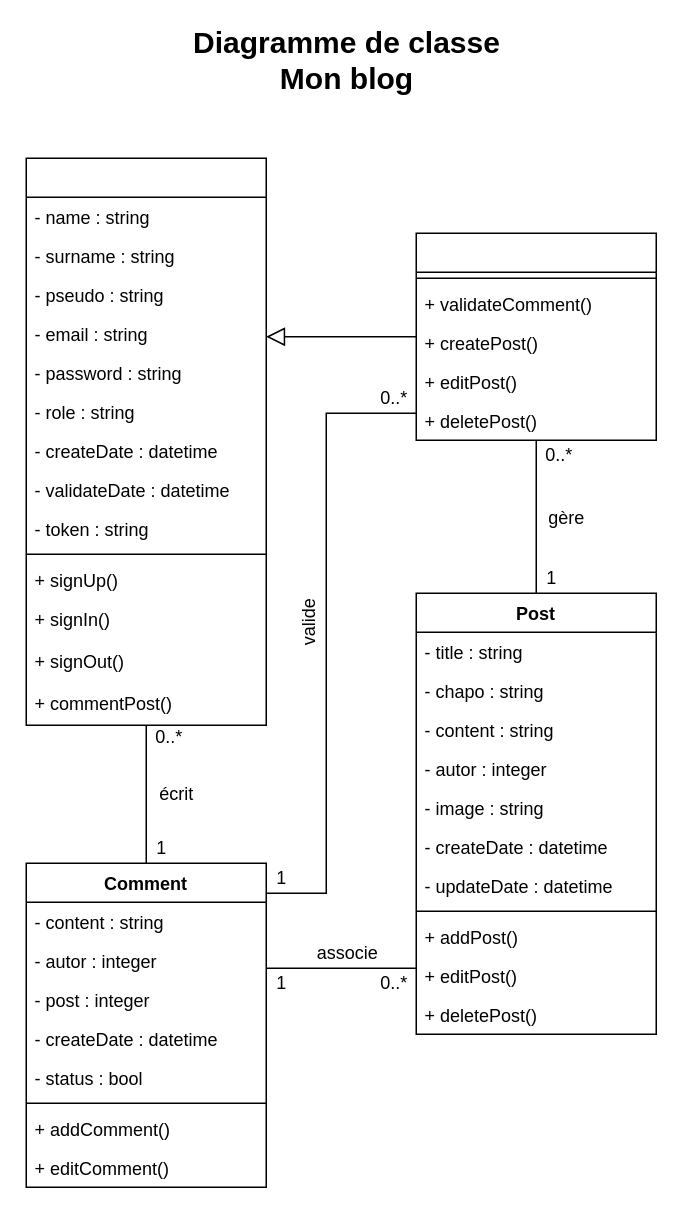
The diagram is 683 pixels wide and 1217 high, and some of its shapes have lost their labels. Each missing label, with the box of its shape:
Admin: (415, 232, 656, 440)
User: (25, 157, 266, 725)
